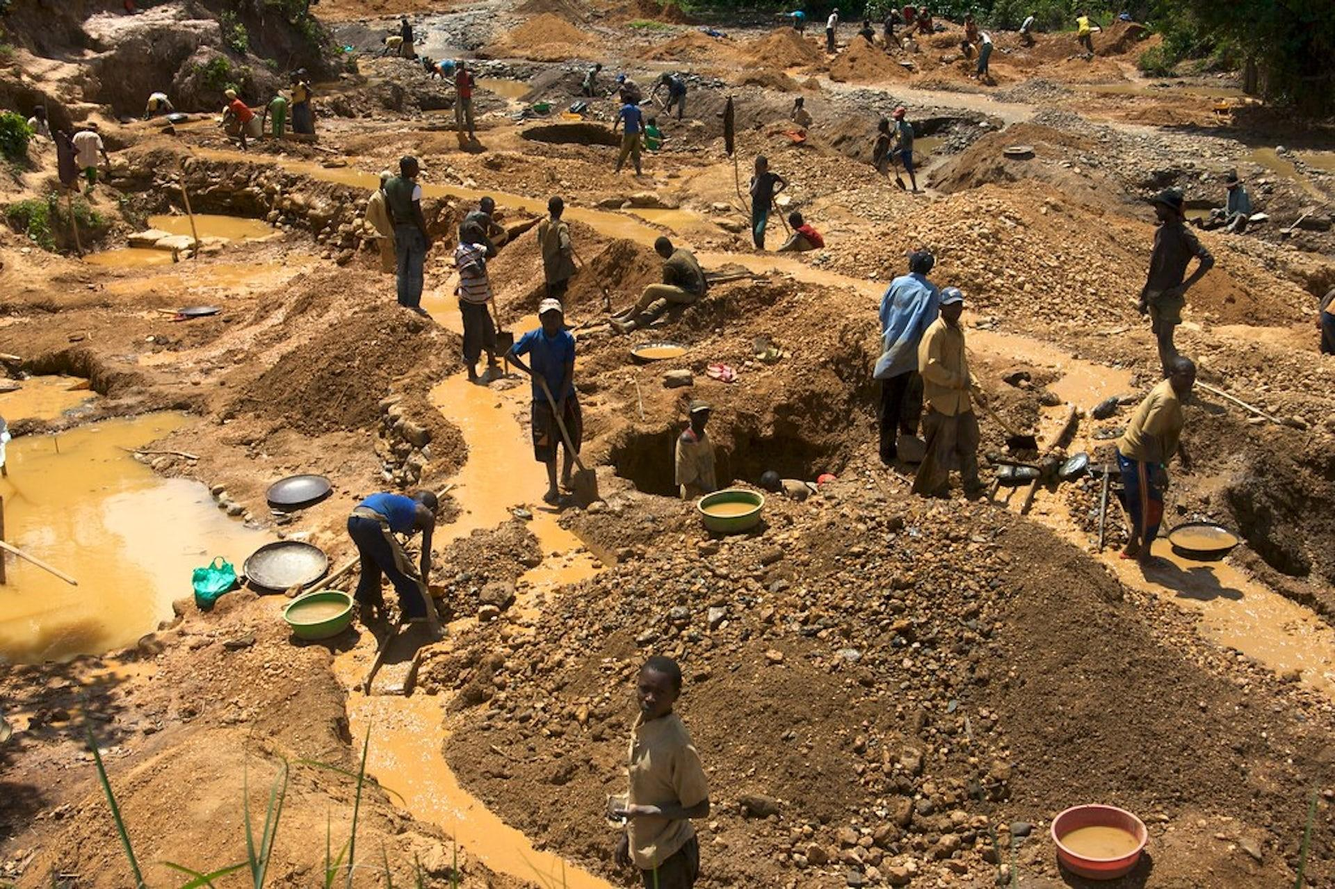MiningTool: (535, 374, 601, 509), (1046, 802, 1149, 883), (1197, 370, 1307, 432), (973, 383, 1038, 451), (241, 541, 331, 589), (478, 262, 518, 361), (569, 235, 612, 317), (285, 589, 355, 639), (1170, 519, 1243, 564), (695, 489, 768, 532), (1092, 459, 1121, 557), (266, 471, 334, 507), (627, 339, 698, 361), (1280, 202, 1323, 234), (769, 192, 792, 242), (890, 141, 907, 192), (455, 85, 468, 145), (180, 304, 222, 316), (654, 92, 671, 120), (1000, 145, 1035, 155), (532, 103, 551, 112), (563, 112, 583, 120), (166, 113, 188, 120), (121, 116, 137, 124), (898, 61, 912, 67)
Person: (604, 653, 711, 889), (1115, 355, 1204, 570), (505, 297, 590, 504), (1136, 188, 1216, 389), (914, 283, 989, 494), (874, 250, 943, 462), (346, 482, 441, 633), (607, 235, 713, 336), (378, 153, 435, 319), (453, 219, 504, 384), (538, 193, 579, 333), (674, 399, 721, 499), (361, 167, 403, 276), (745, 155, 788, 252), (1188, 170, 1254, 231), (216, 88, 268, 153), (463, 193, 508, 259), (613, 94, 648, 174), (889, 108, 921, 191), (71, 121, 111, 187), (451, 60, 481, 140), (775, 209, 825, 252), (51, 127, 82, 193), (647, 71, 688, 120), (285, 72, 315, 133), (759, 470, 810, 503), (293, 66, 316, 133), (262, 88, 287, 142), (873, 117, 895, 175), (1074, 11, 1103, 52), (973, 26, 994, 81), (140, 90, 177, 120), (1019, 10, 1046, 50), (396, 17, 417, 61), (788, 95, 815, 128), (581, 63, 606, 98), (26, 104, 53, 136), (882, 8, 901, 52), (823, 5, 840, 54), (961, 3, 982, 40), (379, 34, 409, 58), (423, 60, 455, 80), (916, 3, 937, 31), (790, 5, 807, 38), (856, 17, 876, 44), (958, 38, 981, 60), (903, 31, 919, 55)
ProcessingEquiment: (362, 579, 451, 696)
